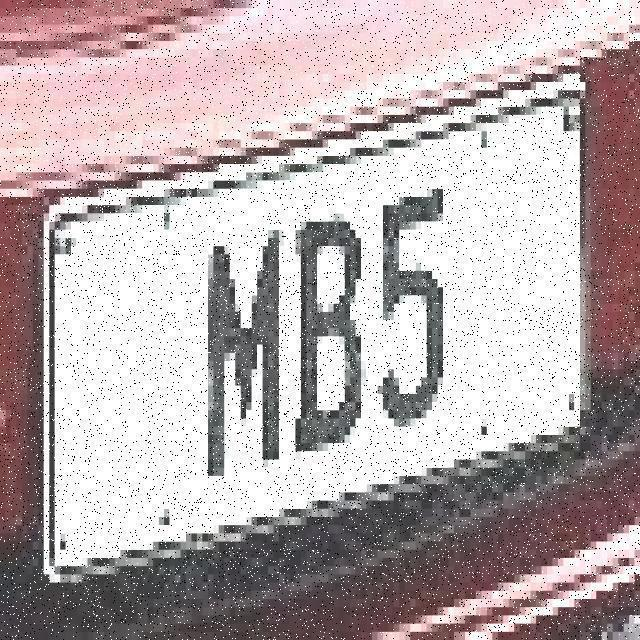License Plate: (18, 135, 594, 555)
